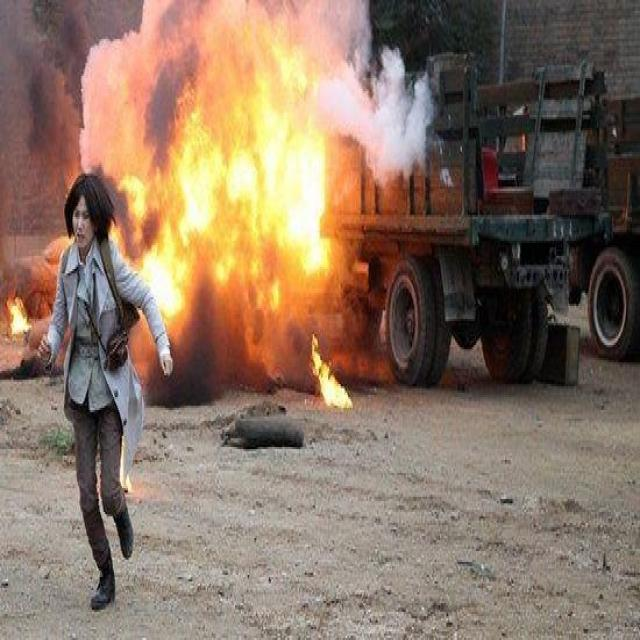Fire: (125, 4, 354, 403), (2, 286, 33, 338)
Smoke: (360, 63, 434, 174)
